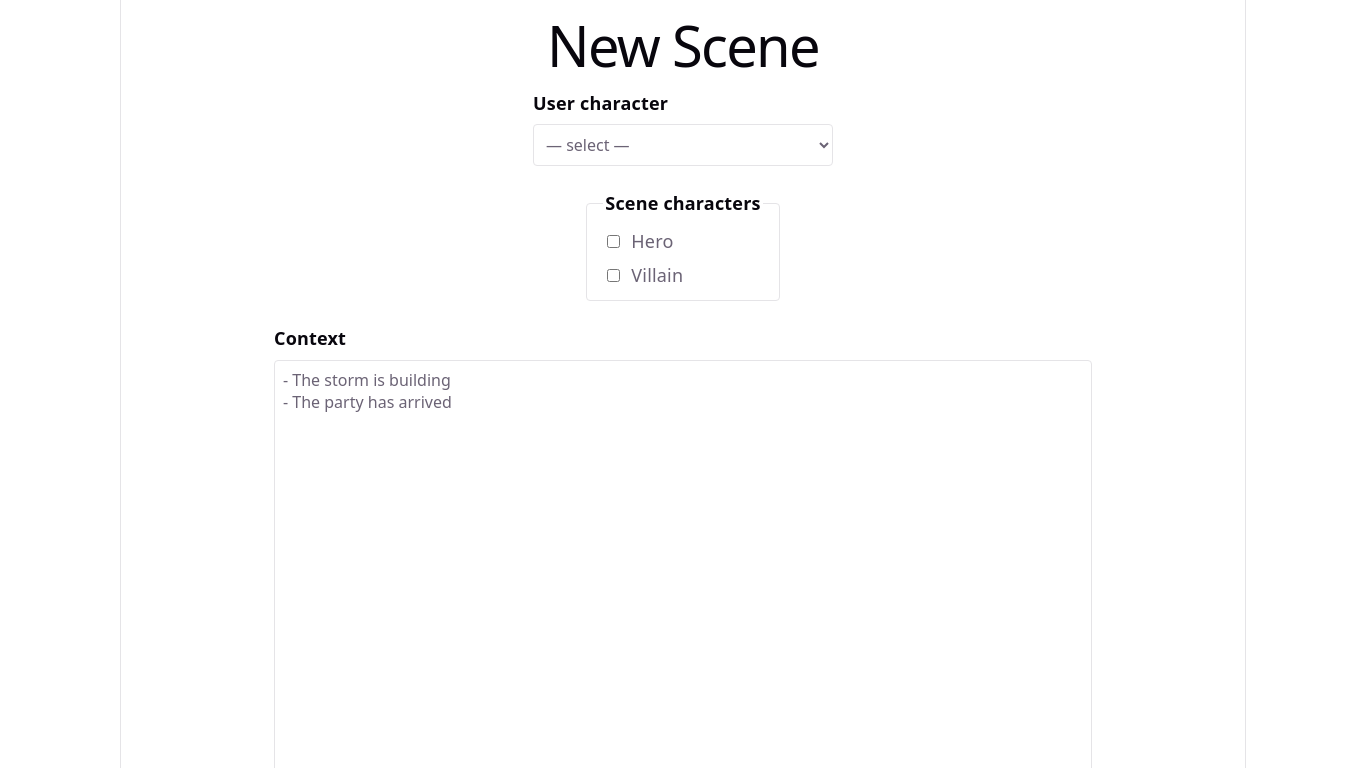
NewScenePage › excludes a selected user character from scene characters
The width and height of the screenshot is (1366, 768).
Click the checkbox labelled "Hero".
click(614, 241)  # box [607,235,620,248]
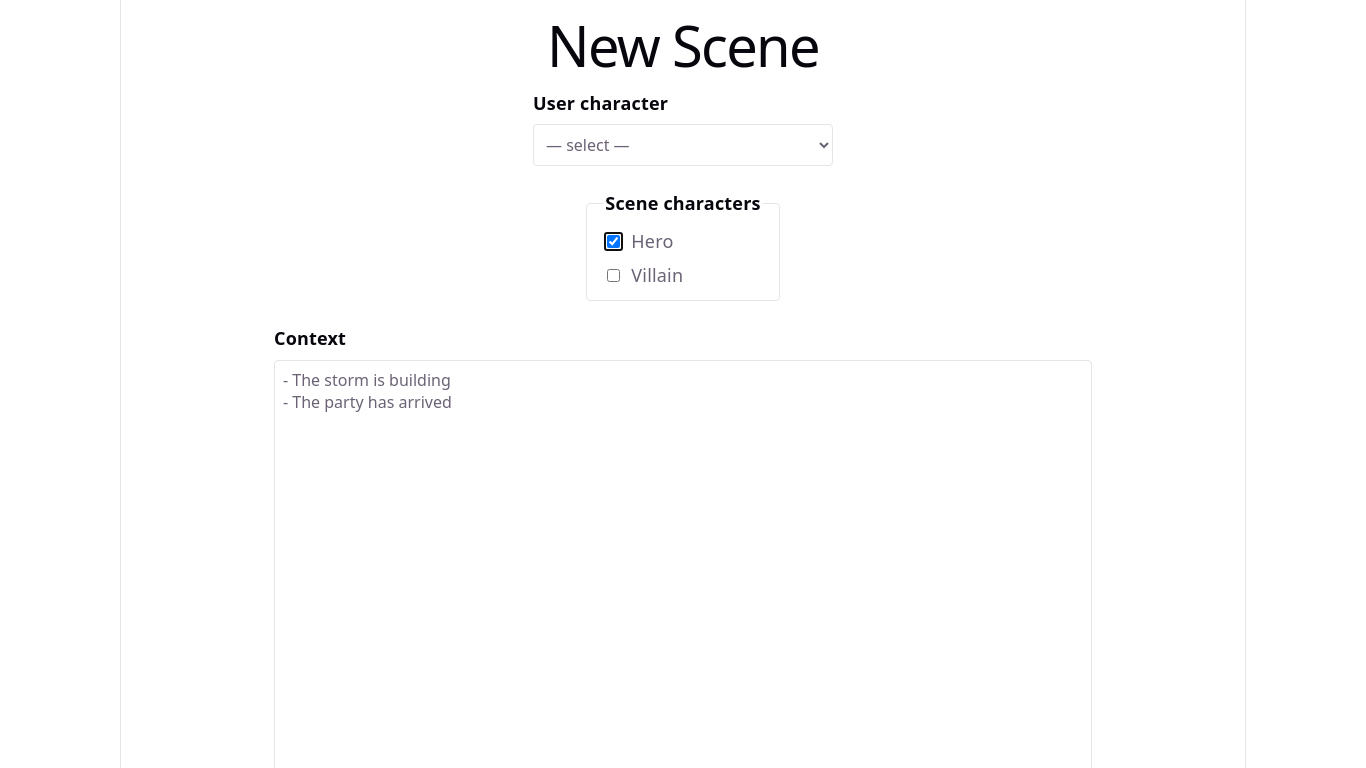
Select "Hero" in the dropdown labelled "User character" at (683, 145), box [533,124,833,166]
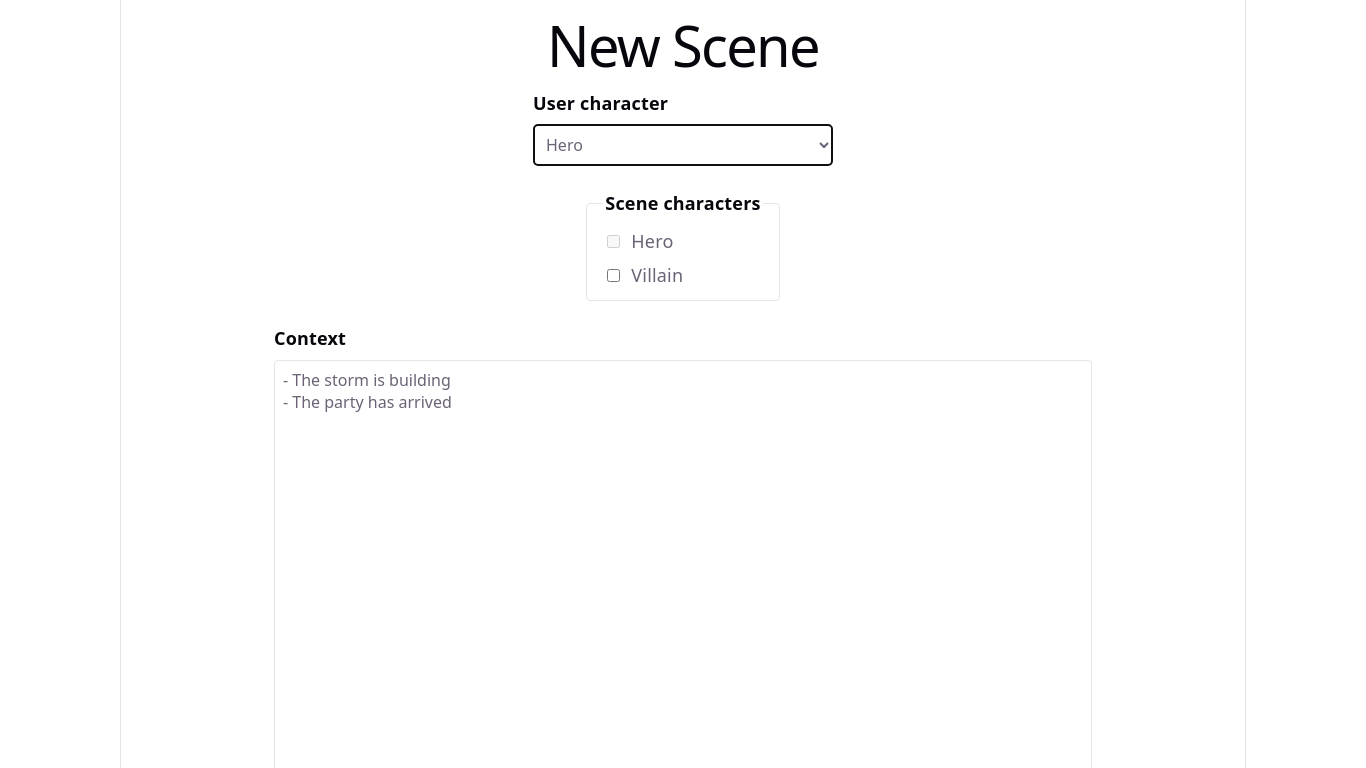
Expected: the checkbox labelled "Villain" is enabled, [607,269,620,282]
Result: the checkbox labelled "Hero" is not checked at [607,235,620,248]
Result: the checkbox labelled "Hero" is disabled at [607,235,620,248]
